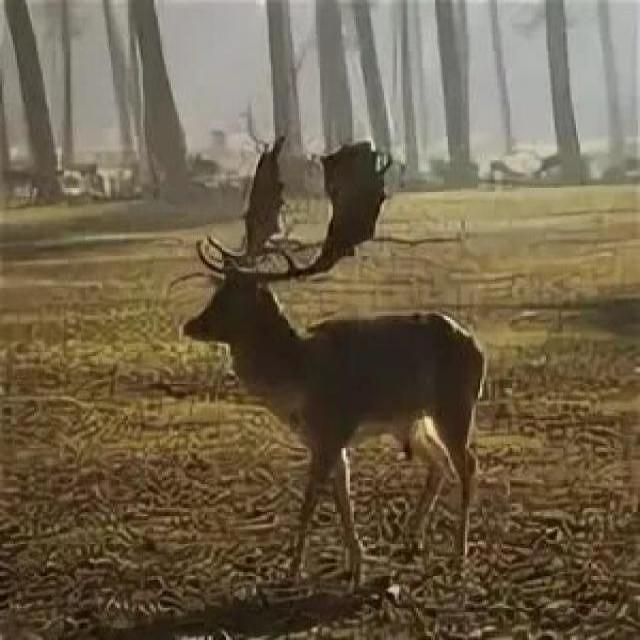deer: (168, 139, 536, 481)
